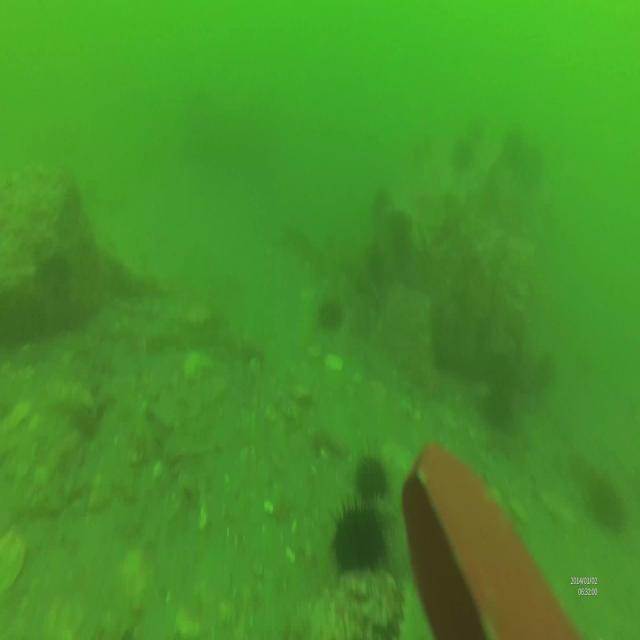echinus: (331, 497, 385, 571), (590, 475, 626, 536), (352, 444, 386, 497), (486, 376, 516, 428), (317, 297, 345, 334)
